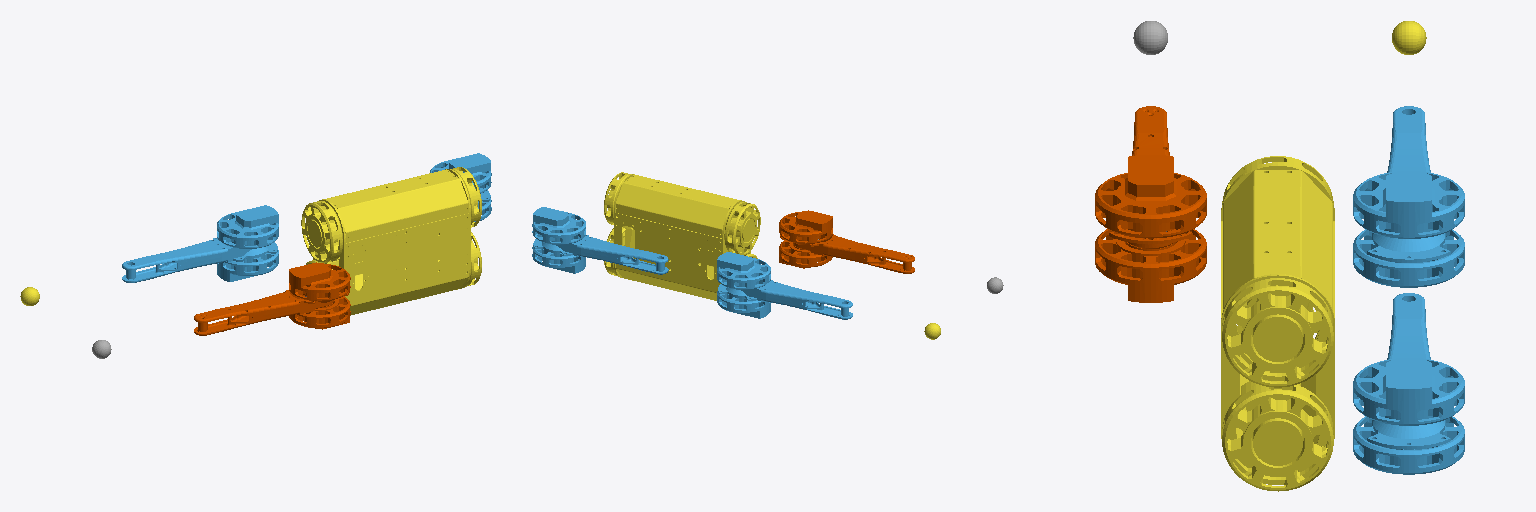
URDF robot description (mini_cheetah):
<?xml version="1.0" ?>
<robot name="mini_cheetah" xmlns:xacro="http://ros.org/wiki/xacro">
    <link name="base">
        <origin rpy="0 0 0" xyz="0 0 0"/>
    </link>

 <joint name="rot_x" type="continuous">
        <parent link="base"/>
        <child link="roty"/>
	<axis xyz="1 0 0"/>
        <origin rpy="0 0 0" xyz="0 0 0"/>
    </joint>

  <joint name="rot_y" type="continuous">
        <parent link="roty"/>
        <child link="rotz"/>
	<axis xyz="0 1 0"/>
        <origin rpy="0 0 0" xyz="0 0 0"/>
    </joint>

  <joint name="rot_z" type="continuous">
        <parent link="rotz"/>
        <child link="trunk"/>
	<axis xyz="0 0 1"/>
        <origin rpy="0 0 0" xyz="0 0 0"/>
    </joint>



 <link name="roty">
       <visual>
            <origin rpy="0 0 0" xyz="0 0 0"/>
            <geometry>
                <box size="0.0 0.0 0.0"/>
            </geometry>
        </visual>
    </link>

     <gazebo reference="roty">
        <material>Gazebo/Black</material>
    </gazebo> 

 <link name="rotz">
       <visual>
            <origin rpy="0 0 0" xyz="0 0 0"/>
            <geometry>
                <box size="0.0 0.0 0.0"/>
            </geometry>
        </visual>
    </link>

     <gazebo reference="rotz">
        <material>Gazebo/Black</material>
    </gazebo> 

    <link name="trunk">
        <inertial>
            <mass value="3.3"/>
            <origin xyz="0.0 0.0 0.0"/>
            <inertia ixx="0.011253" ixy="0" ixz="0" iyy="0.036203" iyz="0" izz="0.042673"/>
        </inertial>
        <visual>
            <geometry>
                <mesh filename="package://cheetah_description/meshes/mini_body.dae"/>
            </geometry>
            <origin rpy="0.0 0.0 0.0" xyz="0.0 0.0 0.0"/>
        </visual>
        <collision>
            <geometry>
                <mesh filename="package://cheetah_description/meshes/mini_body.dae"/>
            </geometry>
            <origin rpy="0 0 0" xyz="0 0 0"/>
        </collision>
    </link>

     <gazebo reference="trunk">
        <material>Gazebo/Black</material>
    </gazebo> 

    <!--!!!!!!!!!!!! Front Right Leg !!!!!!!!!!!!!!!!!!!!!!!!!!!!!!!!!!!!-->
    <joint name="FR_hip_joint" type="continuous">
        <axis xyz="0 0 1"/>
        <origin rpy="1.57079632679 0 1.57079632679" xyz="0.19 -0.049 0.0"/>
        <parent link="trunk"/>
        <child link="FR_hip"/>
    </joint>
    <link name="FR_hip">
        <inertial>
            <mass value="0.54"/>
            <origin xyz="0.0 0.036 0."/>
            <inertia ixx="0.000381" ixy="0.000058" ixz="0.00000045" 
                iyy="0.000560" iyz="0.00000095" izz="0.000444"/>
        </inertial>
        <visual>
            <geometry>
                <mesh filename="package://cheetah_description/meshes/mini_abad.obj"/>
            </geometry>
            <origin rpy="1.5708 0 0" xyz="0 0 -0.055"/>
        </visual>
        <collision>
            <geometry>
                <mesh filename="package://cheetah_description/meshes/mini_abad.obj"/>
            </geometry>
            <origin rpy="1.5708 0 0" xyz="0 0 -0.055"/>
        </collision>
    </link>

    <joint name="FR_thigh_joint" type="continuous">
        <axis xyz="0 0 1"/>
        <origin rpy="0.0 1.5708 0.0" xyz="-0.062 0 0.00"/>
        <parent link="FR_hip"/>
        <child link="FR_thigh"/>
    </joint>
    <link name="FR_thigh">
        <inertial>
            <mass value="0.634"/>
            <origin xyz="0.0 0.016 -0.02"/>
            <inertia ixx="0.001983" ixy="0.000245" ixz="0.000013" 
                iyy="0.002103" iyz="0.0000015" izz="0.000408"/>
        </inertial>
        <visual>
            <geometry>
                <mesh filename="package://cheetah_description/meshes/mini_upper_link.obj"/>
            </geometry>
            <origin rpy="-1.507  0 3.14" xyz="0.0 0.0 0.0"/>
        </visual>
        <collision>
            <geometry>
                <mesh filename="package://cheetah_description/meshes/mini_upper_link.obj"/>
            </geometry>
            <origin rpy="-1.507  0 3.14" xyz="0.0 0.0 0.0"/>
        </collision>
    </link>

    <joint name="FR_calf_joint" type="continuous">
        <axis xyz="0 0 1"/>
        <origin rpy="0.0 0 0.0" xyz="0.209 0 0 "/>
        <parent link="FR_thigh"/>
        <child link="FR_calf"/>
    </joint>
    <link name="FR_calf">
        <inertial>
            <mass value="0.064"/>
            <origin xyz="0.0 0.0 -0.209"/>
            <inertia ixx="0.000245" ixy="0" ixz="0.0" iyy="0.000248" iyz="0" izz="0.000006"/>
        </inertial>
        <visual>
            <geometry>
                <mesh filename="package://cheetah_description/meshes/mini_lower_link.obj"/>
            </geometry>
            <origin rpy="-1.57070 0 -1.5707" xyz="0.0 0.0 0.0"/>
        </visual>
        <collision>
            <geometry>
                <mesh filename="package://cheetah_description/meshes/mini_lower_link.obj"/>
            </geometry>
            <origin rpy="-1.57070 0 -1.5707" xyz="0.0 0.0 0.0"/>
        </collision>
    </link>
    <link name="FR_foot">
    <contact>
      <friction_anchor/>
      <stiffness value="30000.0"/>
      <damping value="1000.0"/>
      <spinning_friction value="0.3"/>
      <lateral_friction value="3.0"/>
    </contact>
    <visual>
      <origin rpy="0 0 0" xyz="0 0 0"/>
      <geometry>
        <sphere radius="0.015"/>
      </geometry>
      <material name="darkgray"/>
    </visual>
    <collision>
      <origin rpy="0 0 0" xyz="0 0 0"/>
      <geometry>
        <sphere radius="0.015"/>
      </geometry>
    </collision>
    <inertial>
      <mass value="0.15"/>
      <inertia ixx="0.000025" ixy="0" ixz="0" iyy="0.000025" iyz="0" izz="0.000025"/>
    </inertial>
  </link>
  <joint name="FR_foot_fixed" type="fixed">
    <parent link="FR_calf"/>
    <child link="FR_foot"/>
    <origin xyz="0.18 0 0"/>
    <dynamics damping="0.0" friction="0.0"/>
  </joint>

 
<!--!!!!!!!!!!!! Front Left Leg !!!!!!!!!!!!!!!!!!!!!!!!!!!!!!!!!!!!-->
    <joint name="FL_hip_joint" type="continuous">
        <axis xyz="0 0 1"/>
        <origin rpy="1.5708 0 1.5708" xyz="0.19 0.049 0.0"/>
        <parent link="trunk"/>
        <child link="FL_hip"/>
    </joint>
    <link name="FL_hip">
        <inertial>
            <mass value="0.54"/>
            <origin xyz="0.0 0.036 0."/>
            <inertia ixx="0.000381" ixy="0.000058" ixz="0.00000045" 
                iyy="0.000560" iyz="0.00000095" izz="0.000444"/>
        </inertial>
        <visual>
            <geometry>
                <mesh filename="package://cheetah_description/meshes/mini_abad.dae"/>
            </geometry>
            <origin rpy="1.5708 0. 3.14159" xyz="0 0.0 -0.055"/>
        </visual>
        <collision>
            <geometry>
                <mesh filename="package://cheetah_description/meshes/mini_abad.dae"/>
            </geometry>
             <origin rpy="1.5708 0. 3.14159" xyz="0 0.0 -0.055"/>
        </collision>
    </link>

    <joint name="FL_thigh_joint" type="continuous">
        <axis xyz="0 0 1"/>
        <origin rpy="0.0 1.5708 0.0" xyz="0.062 0 0.00"/>
        <parent link="FL_hip"/>
        <child link="FL_thigh"/>
    </joint>
    <link name="FL_thigh">
        <inertial>
            <mass value="0.634"/>
            <origin xyz="0.0 0.016 -0.02"/>
            <inertia ixx="0.001983" ixy="0.000245" ixz="0.000013" 
                iyy="0.002103" iyz="0.0000015" izz="0.000408"/>
        </inertial>
        <visual>
            <geometry>
                <mesh filename="package://cheetah_description/meshes/mini_upper_link.dae"/>
            </geometry>
            <origin rpy="1.5708 0  3.14159" xyz="0.0 0.0 0.0"/>
        </visual>
        <collision>
            <geometry>
                <mesh filename="package://cheetah_description/meshes/mini_upper_link.dae"/>
            </geometry>
             <origin rpy="1.5708 0  3.14159" xyz="0.0 0.0 0.0"/>
        </collision>
    </link>

    <joint name="FL_calf_joint" type="continuous">
        <axis xyz="0 0 1"/>
        <origin rpy="0.0 0 0.0" xyz="0.209 0.0 0"/>
        <parent link="FL_thigh"/>
        <child link="FL_calf"/>
    </joint>
    <link name="FL_calf">
        <inertial>
            <mass value="0.064"/>
            <origin xyz="0.0 0.0 -0.209"/>
            <inertia ixx="0.000245" ixy="0" ixz="0.0" iyy="0.000248" iyz="0" izz="0.000006"/>
        </inertial>
        <visual>
            <geometry>
                <mesh filename="package://cheetah_description/meshes/mini_lower_link.dae"/>
            </geometry>
            <origin rpy="-1.57070 0 -1.5707" xyz="0.0 0.0 0.0"/>
        </visual>
        <collision>
            <geometry>
                <mesh filename="package://cheetah_description/meshes/mini_lower_link.dae"/>
            </geometry>
             <origin rpy="-1.57070 0 -1.5707" xyz="0.0 0.0 0.0"/>
        </collision>
    </link>
    <link name="FL_foot">
      <contact>
      <friction_anchor/>
      <stiffness value="30000.0"/>
      <damping value="1000.0"/>
      <spinning_friction value="0.3"/>
      <lateral_friction value="3.0"/>
    </contact>
    <visual>
      <origin rpy="0 0 0" xyz="0 0 0"/>
      <geometry>
        <sphere radius="0.015"/>
      </geometry>
      <material name="darkgray"/>
    </visual>
    <collision>
      <origin rpy="0 0 0" xyz="0 0 0"/>
      <geometry>
        <sphere radius="0.015"/>
      </geometry>
    </collision>
    <inertial>
      <mass value="0.15"/>
      <inertia ixx="0.000025" ixy="0" ixz="0" iyy="0.000025" iyz="0" izz="0.000025"/>
    </inertial>
  </link>
  <joint name="FL_foot_fixed" type="fixed">
    <parent link="FL_calf"/>
    <child link="FL_foot"/>
    <origin xyz="0.18 0 0"/>
    <dynamics damping="0.0" friction="0.0"/>
  </joint>


<!--!!!!!!!!!!!! Hind Right Leg !!!!!!!!!!!!!!!!!!!!!!!!!!!!!!!!!!!!-->
    <joint name="RR_hip_joint" type="continuous">
        <axis xyz="0 0 1"/>
        <origin rpy="1.57079632679 0 1.57079632679" xyz="-0.19 -0.049 0.0"/>
        <parent link="trunk"/>
        <child link="RR_hip"/>
    </joint>
    <link name="RR_hip">
        <inertial>
            <mass value="0.54"/>
            <origin xyz="0.0 0.036 0."/>
            <inertia ixx="0.000381" ixy="0.000058" ixz="0.00000045" 
                iyy="0.000560" iyz="0.00000095" izz="0.000444"/>
        </inertial>
        <visual>
            <geometry>
                <mesh filename="package://cheetah_description/meshes/mini_abad.dae"/>
            </geometry>
            <origin rpy="-1.5708 0 0" xyz="0 0.0 0.055"/>
        </visual>
        <collision>
            <geometry>
                <mesh filename="package://cheetah_description/meshes/mini_abad.dae"/>
            </geometry>
            <origin rpy="-1.5708 0 0" xyz="0 0.0 0.055"/>
        </collision>
    </link>

    <joint name="RR_thigh_joint" type="continuous">
        <axis xyz="0 0 1"/>
        <origin rpy="0.0 1.5708 0.0" xyz="-0.062 0 0.00"/>
        <parent link="RR_hip"/>
        <child link="RR_thigh"/>
    </joint>
    <link name="RR_thigh">
        <inertial>
            <mass value="0.634"/>
            <origin xyz="0.0 0.016 -0.02"/>
            <inertia ixx="0.001983" ixy="0.000245" ixz="0.000013" 
                iyy="0.002103" iyz="0.0000015" izz="0.000408"/>
        </inertial>
        <visual>
            <geometry>
                <mesh filename="package://cheetah_description/meshes/mini_upper_link.dae"/>
            </geometry>
            <origin rpy="-1.5708 0 3.14159" xyz="0.0 0.0 0.0"/>
        </visual>
        <collision>
            <geometry>
                <mesh filename="package://cheetah_description/meshes/mini_upper_link.dae"/>
            </geometry>
            <origin rpy="-1.5708 0 3.14159" xyz="0.0 0.0 0.0"/>
        </collision>
    </link>

    <joint name="RR_calf_joint" type="continuous">
        <axis xyz="0 0 1"/>
        <origin rpy="0.0 0 0.0" xyz="0.209 0.0 0"/>
        <parent link="RR_thigh"/>
        <child link="RR_calf"/>
    </joint>
    <link name="RR_calf">
        <inertial>
            <mass value="0.064"/>
            <origin xyz="0.0 0.0 -0.209"/>
            <inertia ixx="0.000245" ixy="0" ixz="0.0" iyy="0.000248" iyz="0" izz="0.000006"/>
        </inertial>
        <visual>
            <geometry>
                <mesh filename="package://cheetah_description/meshes/mini_lower_link.dae"/>
            </geometry>
            <origin rpy="-1.57070 0 -1.5707" xyz="0.0 0.0 0.0"/>
        </visual>
        <collision>
            <geometry>
                <mesh filename="package://cheetah_description/meshes/mini_lower_link.dae"/>
            </geometry>
            <origin rpy="-1.57070 0 -1.5707" xyz="0.0 0.0 0.0"/>
        </collision>
    </link>
     <link name="RR_foot">
      <contact>
      <friction_anchor/>
      <stiffness value="30000.0"/>
      <damping value="1000.0"/>
      <spinning_friction value="0.3"/>
      <lateral_friction value="3.0"/>
    </contact>
    <visual>
      <origin rpy="0 0 0" xyz="0 0 0"/>
      <geometry>
        <sphere radius="0.015"/>
      </geometry>
      <material name="darkgray"/>
    </visual>
    <collision>
      <origin rpy="0 0 0" xyz="0 0 0"/>
      <geometry>
        <sphere radius="0.015"/>
      </geometry>
    </collision>
    <inertial>
      <mass value="0.15"/>
      <inertia ixx="0.000025" ixy="0" ixz="0" iyy="0.000025" iyz="0" izz="0.000025"/>
    </inertial>
  </link>
  <joint name="RR_foot_fixed" type="fixed">
    <parent link="RR_calf"/>
    <child link="RR_foot"/>
    <origin xyz="0.18 0 0"/>
    <dynamics damping="0.0" friction="0.0"/>
  </joint>


<!--!!!!!!!!!!!! Hind Left Leg !!!!!!!!!!!!!!!!!!!!!!!!!!!!!!!!!!!!-->
    <joint name="RL_hip_joint" type="continuous">
        <axis xyz="0 0 1"/>
        <origin rpy="1.5708 0 1.5708" xyz="-0.19 0.049 0.0"/>
        <parent link="trunk"/>
        <child link="RL_hip"/>
    </joint>
    <link name="RL_hip">
        <inertial>
            <mass value="0.54"/>
            <origin xyz="0.0 0.036 0."/>
            <inertia ixx="0.000381" ixy="0.000058" ixz="0.00000045" 
                iyy="0.000560" iyz="0.00000095" izz="0.000444"/>
        </inertial>
        <visual>
            <geometry>
                <mesh filename="package://cheetah_description/meshes/mini_abad.dae"/>
            </geometry>
            <origin rpy="-1.5708 0 -3.141592" xyz="0 0.0 0.055"/>
        </visual>
        <collision>
            <geometry>
                <mesh filename="package://cheetah_description/meshes/mini_abad.dae"/>
            </geometry>
             <origin rpy="-1.5708 0 -3.141592" xyz="0 0.0 0.055"/>
        </collision>
    </link>

    <joint name="RL_thigh_joint" type="continuous">
        <axis xyz="0 0 1"/>
        <origin rpy="0.0 1.5708 0.0" xyz="0.062 0 0.00"/>
        <parent link="RL_hip"/>
        <child link="RL_thigh"/>
    </joint>
    <link name="RL_thigh">
        <inertial>
            <mass value="0.634"/>
            <origin xyz="0.0 0.016 -0.02"/>
            <inertia ixx="0.001983" ixy="0.000245" ixz="0.000013" 
                iyy="0.002103" iyz="0.0000015" izz="0.000408"/>
        </inertial>
        <visual>
            <geometry>
                <mesh filename="package://cheetah_description/meshes/mini_upper_link.dae"/>
            </geometry>
            <origin rpy="1.5708 0 3.141592" xyz="0.0 0.0 0.0"/>
        </visual>
        <collision>
            <geometry>
                <mesh filename="package://cheetah_description/meshes/mini_upper_link.dae"/>
            </geometry>
            <origin rpy="1.5708 0 3.141592" xyz="0.0 0.0 0.0"/>
        </collision>
    </link>

    <joint name="RL_calf_joint" type="continuous">
        <axis xyz="0 0 1"/>
        <origin rpy="0.0 0 0.0" xyz="0.209 0.0 0"/>
        <parent link="RL_thigh"/>
        <child link="RL_calf"/>
    </joint>
    <link name="RL_calf">
        <inertial>
            <mass value="0.064"/>
            <origin xyz="0.0 0.0 -0.209"/>
            <inertia ixx="0.000245" ixy="0" ixz="0.0" iyy="0.000248" iyz="0" izz="0.000006"/>
        </inertial>
        <visual>
            <geometry>
                <mesh filename="package://cheetah_description/meshes/mini_lower_link.dae"/>
            </geometry>
            <origin rpy="-1.57070 0 -1.5707" xyz="0.0 0.0 0.0"/>
        </visual>
        <collision>
            <geometry>
                <mesh filename="package://cheetah_description/meshes/mini_lower_link.dae"/>
            </geometry>
             <origin rpy="-1.57070 0 -1.5707" xyz="0.0 0.0 0.0"/>
        </collision>
    </link>
    <link name="RL_foot">
      <contact>
      <friction_anchor/>
      <stiffness value="30000.0"/>
      <damping value="1000.0"/>
      <spinning_friction value="0.3"/>
      <lateral_friction value="3.0"/>
    </contact>
    <visual>
      <origin rpy="0 0 0" xyz="0 0 0"/>
      <geometry>
        <sphere radius="0.015"/>
      </geometry>
      <material name="darkgray"/>
    </visual>
    <collision>
      <origin rpy="0 0 0" xyz="0 0 0"/>
      <geometry>
        <sphere radius="0.015"/>
      </geometry>
    </collision>
    <inertial>
      <mass value="0.15"/>
      <inertia ixx="0.000025" ixy="0" ixz="0" iyy="0.000025" iyz="0" izz="0.000025"/>
    </inertial>
  </link>
  <joint name="RL_foot_fixed" type="fixed">
    <parent link="RL_calf"/>
    <child link="RL_foot"/>
    <origin xyz="0.18 0 0"/>
    <dynamics damping="0.0" friction="0.0"/>
  </joint>



</robot>

--- Facts derived from the render (not from the file) ---
3 views of the same robot in one strip: view 1: azimuth 30°, elevation 25°; view 2: azimuth 150°, elevation 25°; view 3: azimuth 270°, elevation 25° (orthographic).
Model mini_cheetah with 20 links and 19 joints (15 continuous, 4 fixed), rooted at base, posed every joint at zero.
Links seen in each view (by area): view 1: trunk, RL_thigh, RR_thigh, FL_thigh; view 2: trunk, RL_thigh, FL_thigh, RR_thigh; view 3: trunk, RR_thigh, FL_thigh, RL_thigh, RR_foot, RL_foot.
Link boxes in pixels (bbox=[...]): trunk: bbox=[301, 167, 481, 315]; RL_thigh: bbox=[122, 205, 278, 282]; RR_thigh: bbox=[194, 262, 350, 335]; FL_thigh: bbox=[430, 153, 491, 221]; trunk: bbox=[604, 172, 760, 300]; RL_thigh: bbox=[717, 252, 852, 319]; FL_thigh: bbox=[532, 207, 668, 274]; RR_thigh: bbox=[779, 210, 914, 273]; trunk: bbox=[1221, 156, 1334, 491]; RR_thigh: bbox=[1095, 106, 1206, 302]; FL_thigh: bbox=[1353, 293, 1464, 474]; RL_thigh: bbox=[1353, 106, 1464, 287]; RR_foot: bbox=[1133, 21, 1167, 54]; RL_foot: bbox=[1392, 21, 1426, 54].
Bounding box of the posed robot: 0.8318 × 0.3179 × 0.197 m (x, y, z).
Meshes: 7 distinct files referenced, 4 mesh visuals loaded (2 Collada DAE); not drawn: 1 (reference not matched to a file when rendering), 8 (file found but could not be loaded).